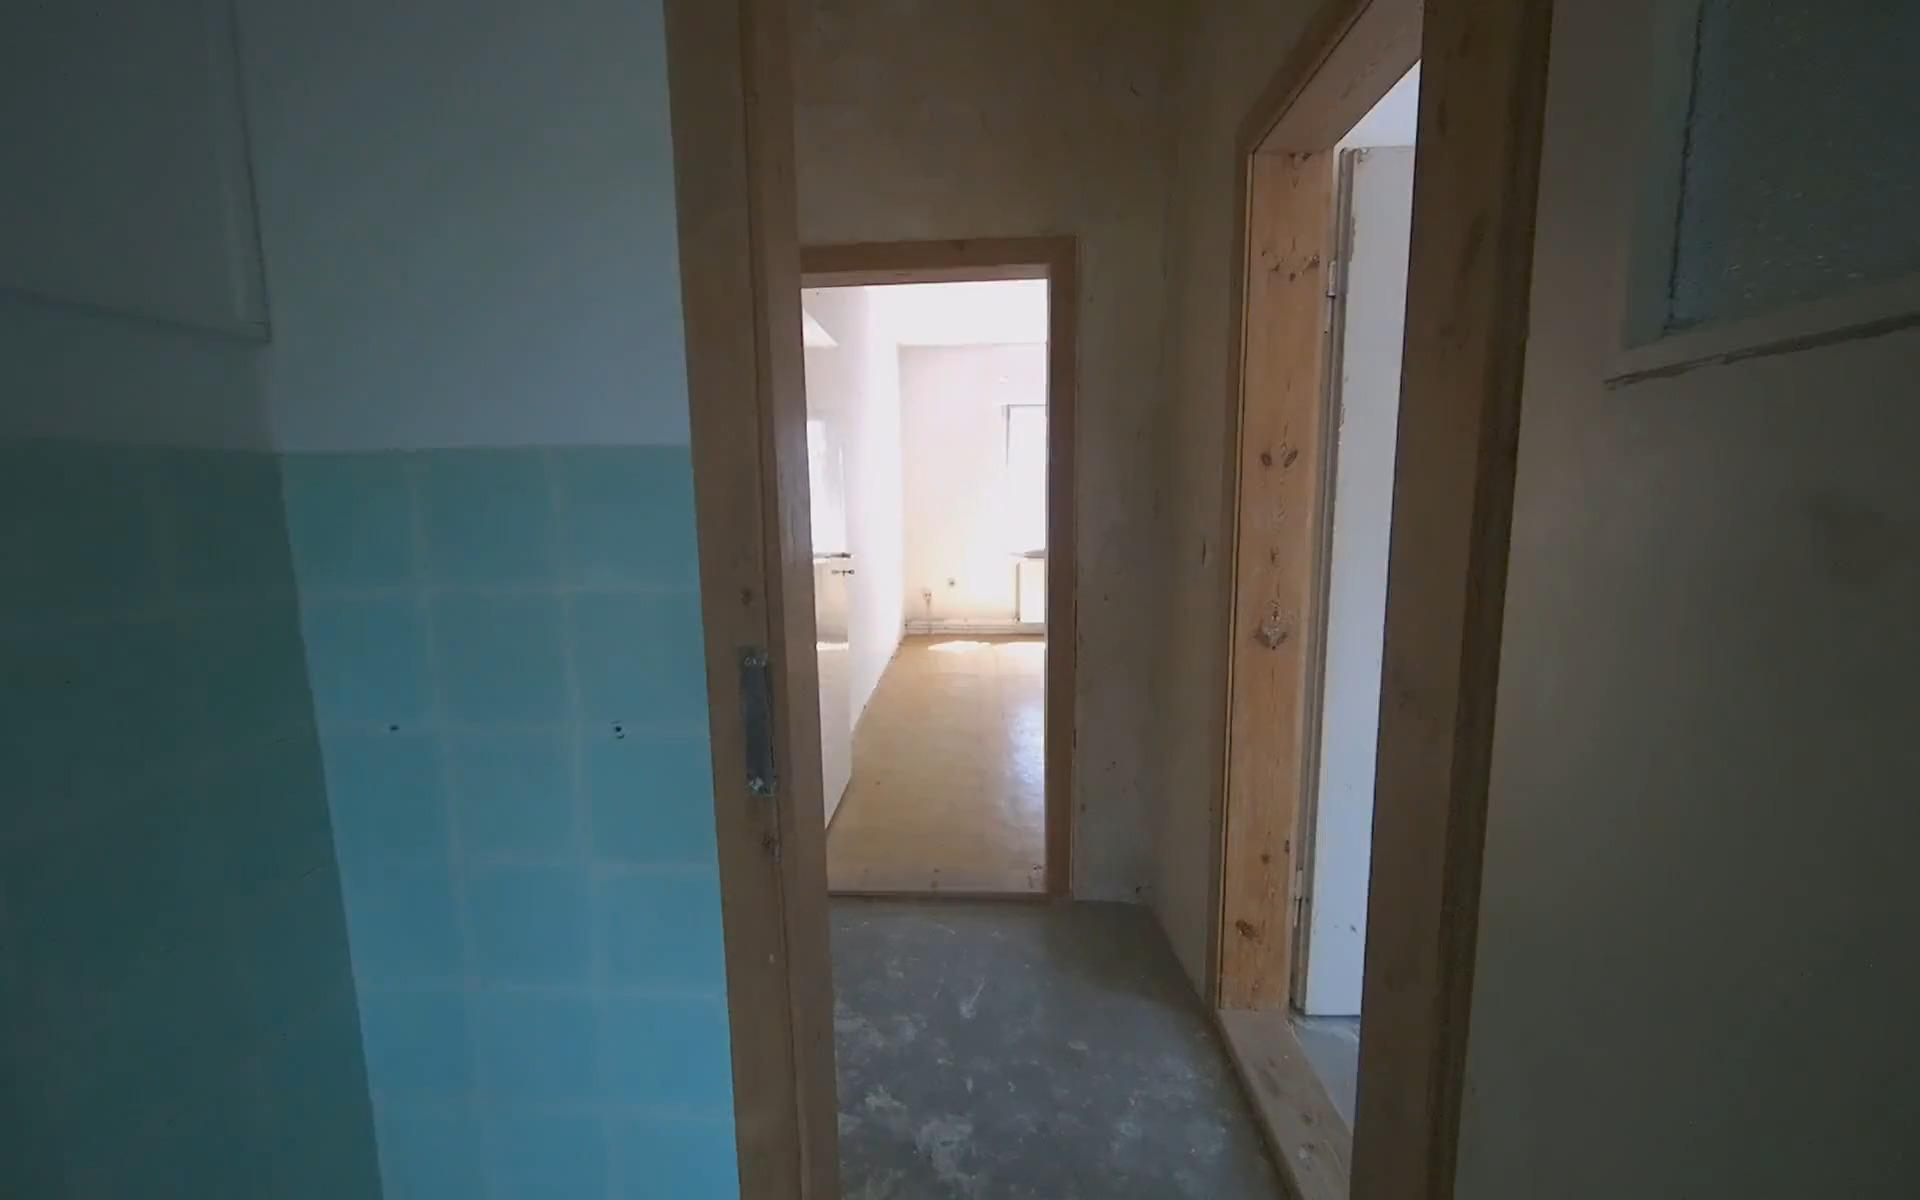doors: (665, 0, 1552, 1200), (1198, 0, 1673, 1200), (727, 237, 1087, 908)
radiator: (1013, 557, 1123, 637)
window: (1005, 405, 1143, 550)
